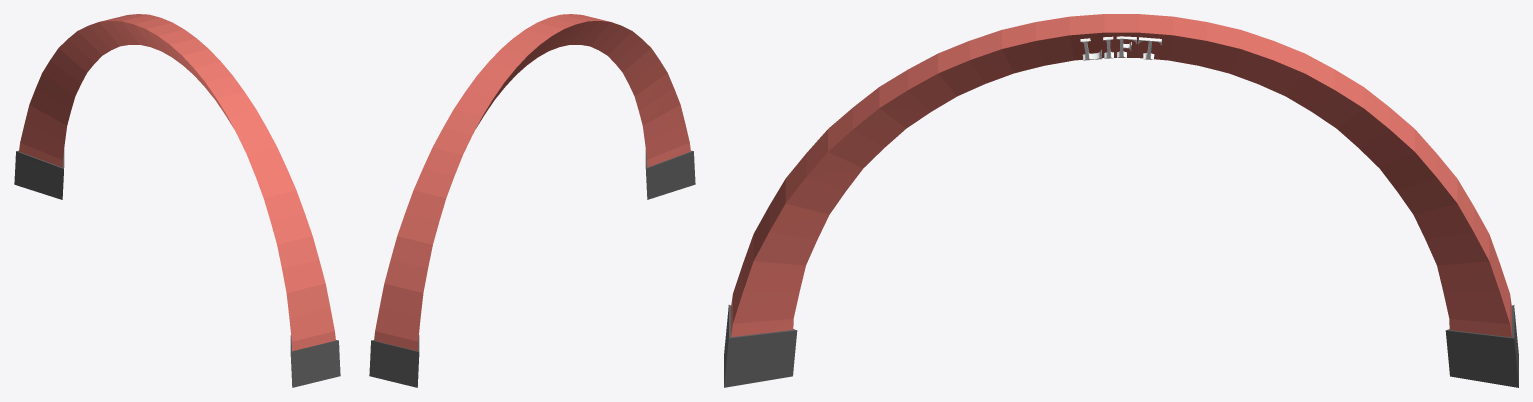
File: Curved_Arch_LIFT.glb
The picture shows the model from 3 angles, left to right: view 1: azimuth 30°, elevation 25°; view 2: azimuth 150°, elevation 25°; view 3: azimuth 270°, elevation 25°; orthographic projection. The views are drawn at different scales.
Visible parts, largest first — view 1: Arc_, Feets_; view 2: Arc_, Feets_; view 3: Arc_, Feets_, LIFT.
Part boxes in pixels (x1,y1,x2,y2): Arc_: [19, 14, 335, 351]; Feets_: [14, 149, 340, 387]; Arc_: [374, 14, 690, 351]; Feets_: [369, 150, 695, 387]; Arc_: [731, 14, 1511, 337]; Feets_: [724, 305, 1518, 387]; LIFT: [1080, 36, 1161, 60].
Size of the model in its own units: 1195 by 5828 by 11887.
